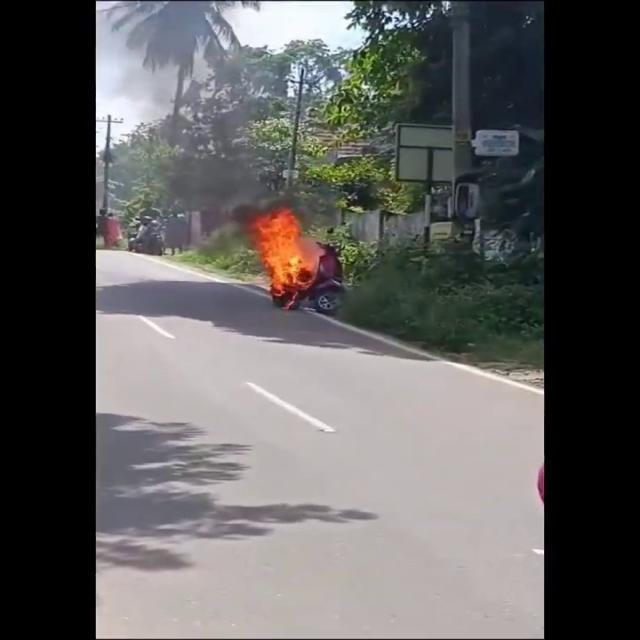Fire: (242, 206, 324, 300)
Smoke: (100, 2, 274, 226)
